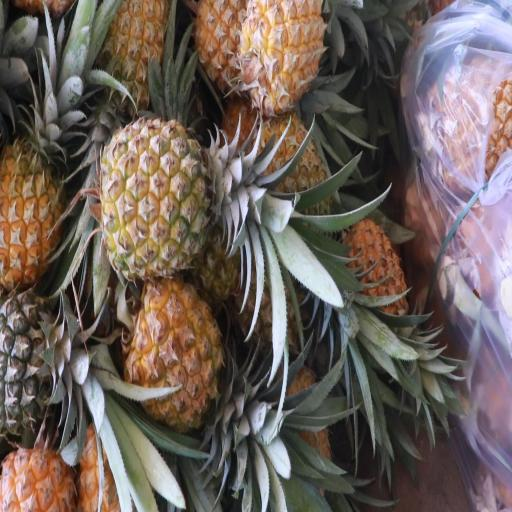Pineapple - v8 v1: (95, 125, 259, 274), (120, 253, 225, 436), (0, 104, 86, 287), (235, 0, 348, 105)
